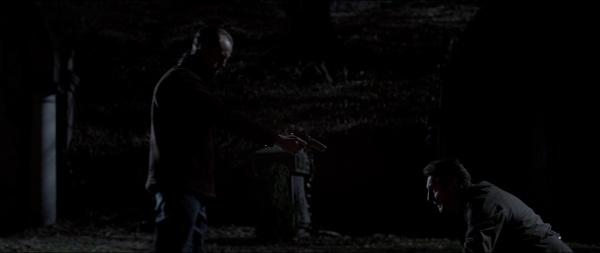Gun: (295, 128, 329, 154)
